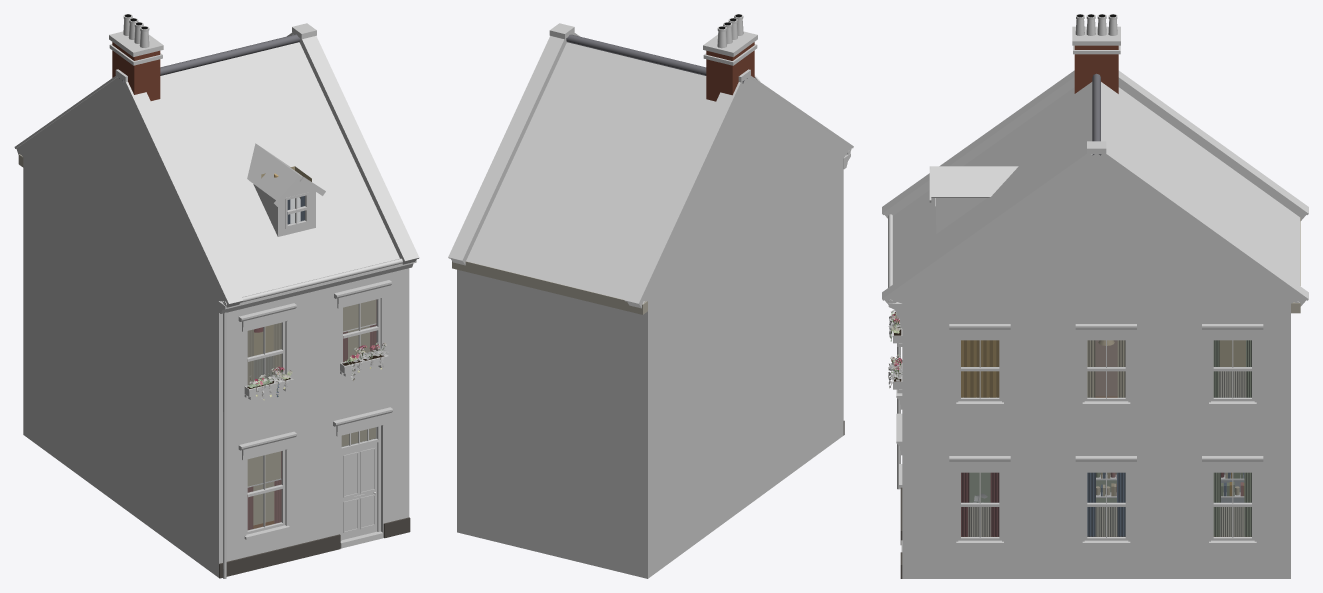
Rendered from GateStreet_BehindInner2.glb.
The picture shows the model from 3 angles, left to right: view 1: azimuth 30°, elevation 25°; view 2: azimuth 150°, elevation 25°; view 3: azimuth 270°, elevation 25°; orthographic projection.
Parts seen in each view (by area): view 1: GateStreet_BehindInner2; view 2: GateStreet_BehindInner2; view 3: GateStreet_BehindInner2.
Part boxes in pixels (<box>): GateStreet_BehindInner2: <box>14,14,419,578</box>; GateStreet_BehindInner2: <box>448,14,853,578</box>; GateStreet_BehindInner2: <box>882,14,1308,578</box>.
Bounding box in the file's own units: 4.63 × 10.86 × 8.78.
